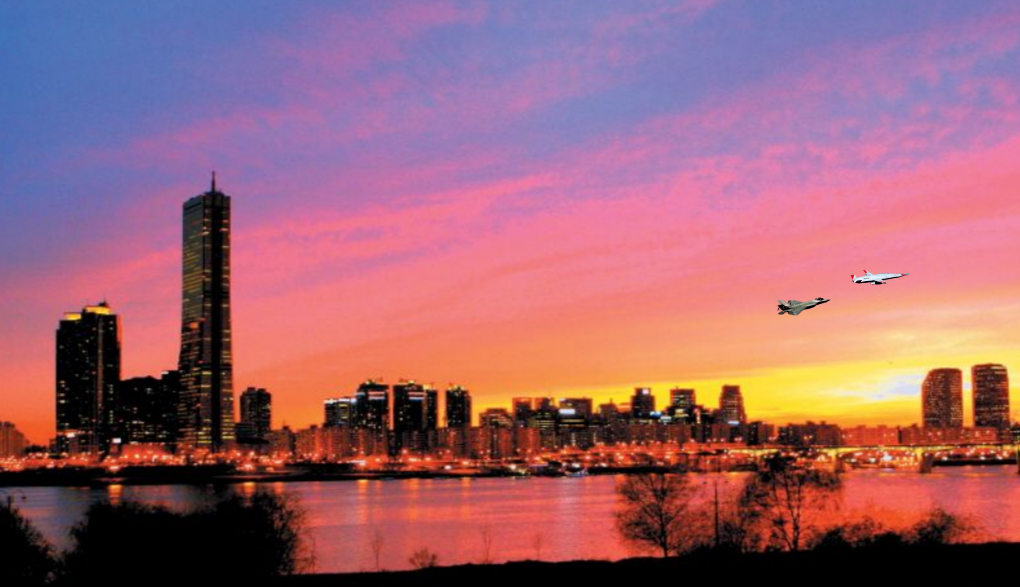airplane: (776, 296, 831, 315)
military drone: (850, 268, 910, 285)
